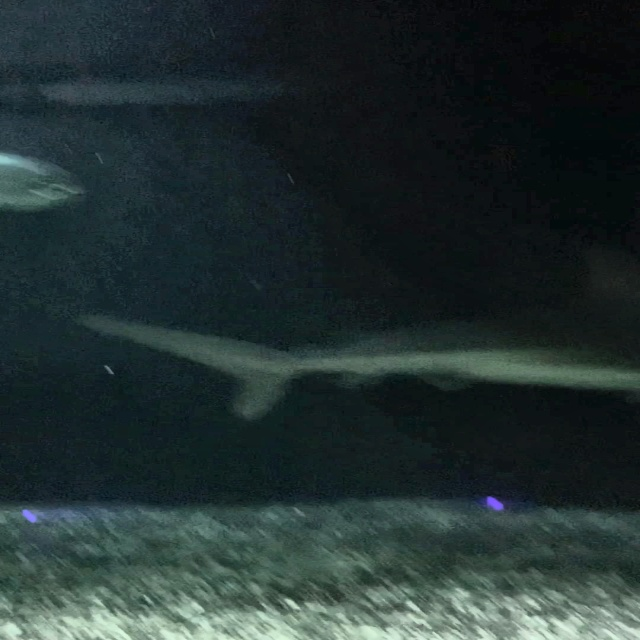fish: (0, 153, 85, 226)
shark: (58, 309, 639, 419)
